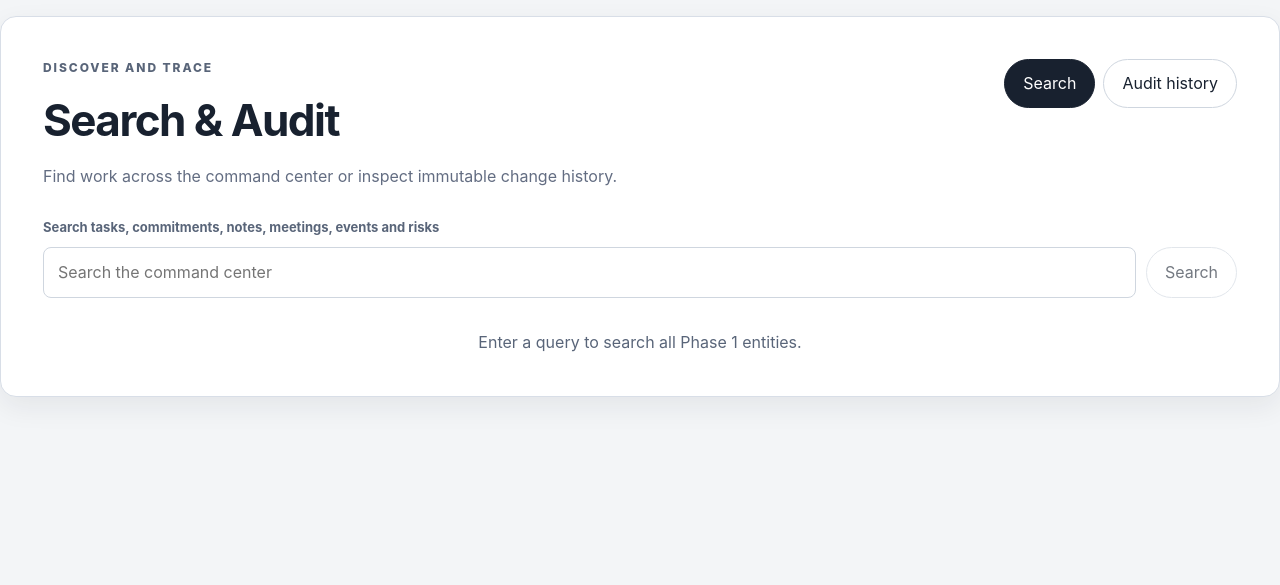
SearchAuditPanel › names a result's bare match-score percentage for a screen reader
Type "renewal" into the search field labelled "Search tasks, commitments, notes, meetings, events and risks".
click(589, 272); type("renewal")  # box [43, 247, 1136, 298]
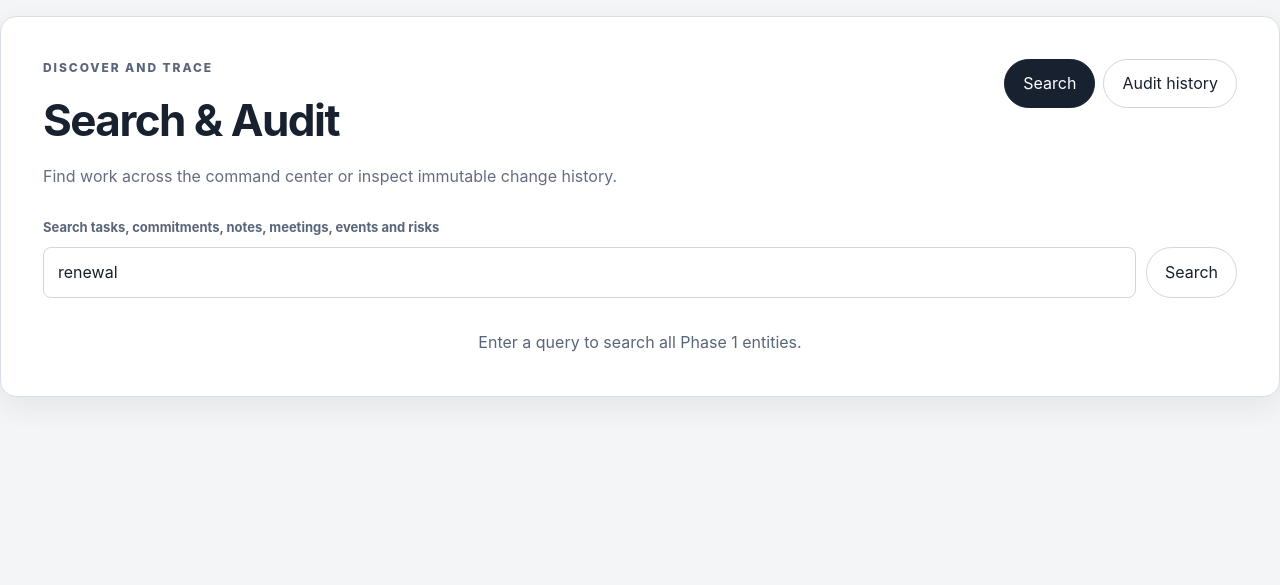
Click the button "Search".
click(1191, 272)  # box [1146, 247, 1237, 298]
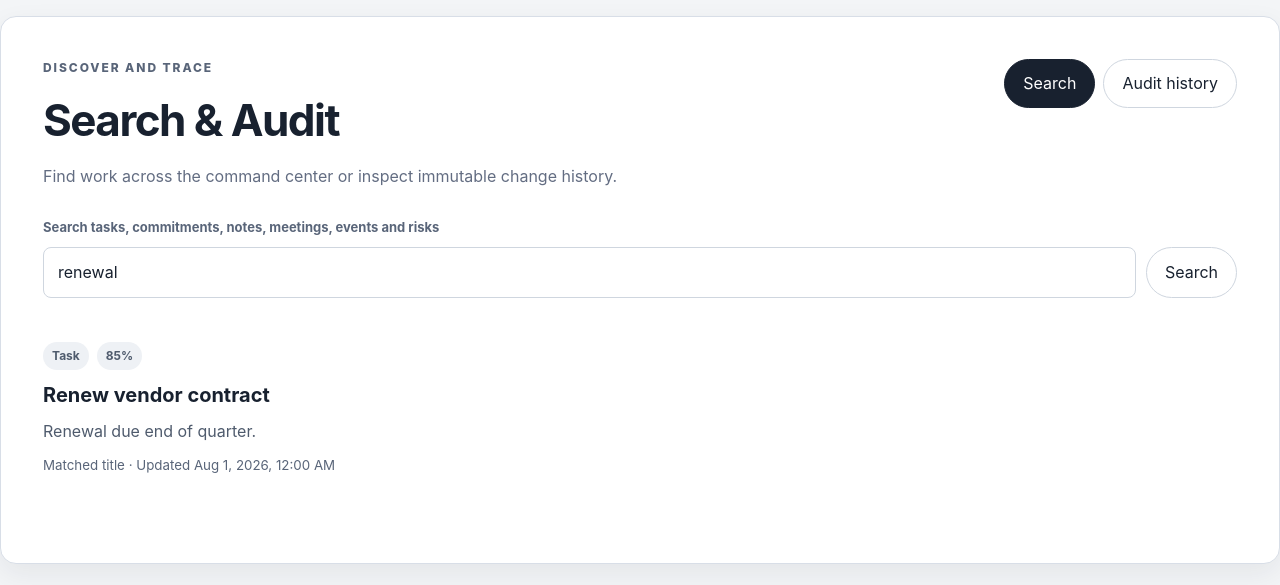
Check: the text named "Match score 85%" reads "85%", box [97, 342, 142, 370]
